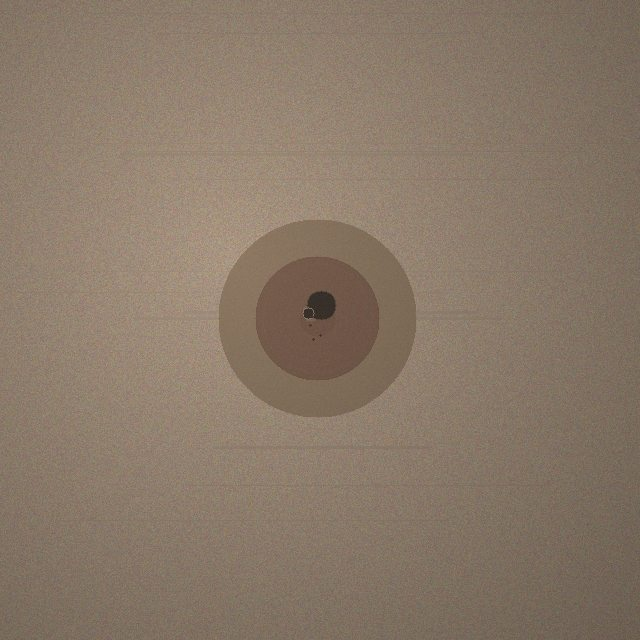shrinkage: (218, 219, 416, 417)
